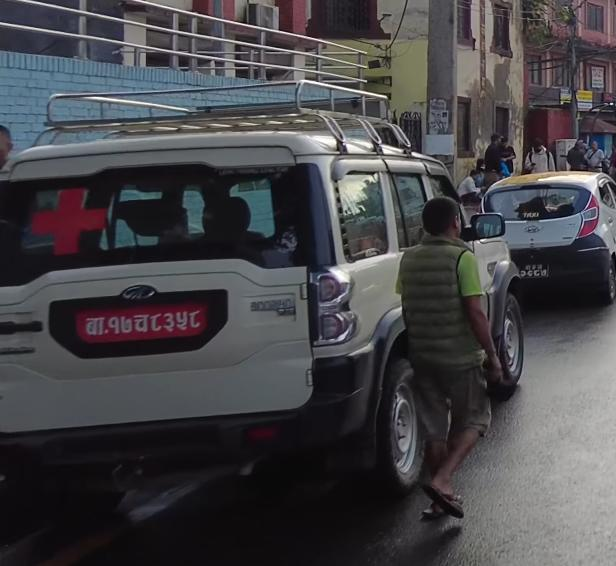SUV: (0, 78, 532, 500)
taxi: (479, 161, 616, 310)
